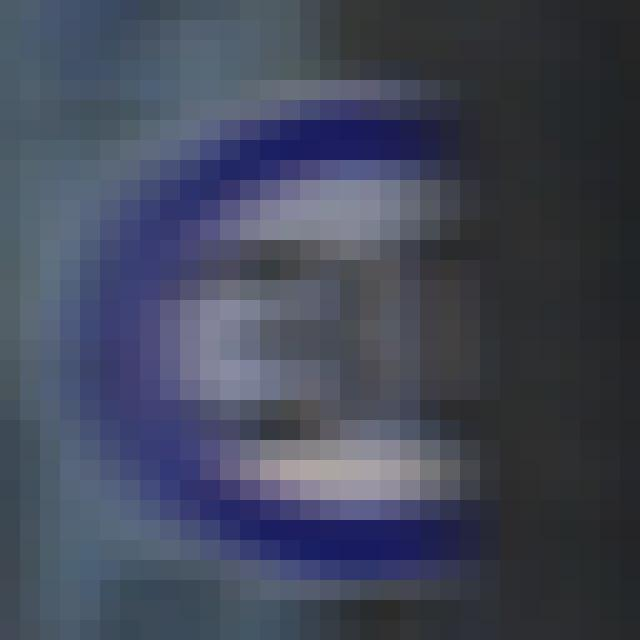SPEED LIMIT 30: (69, 89, 529, 574)
